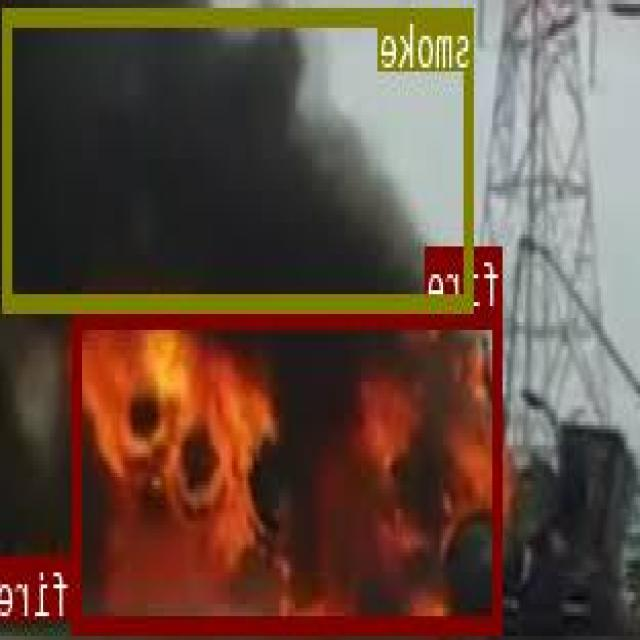fire: (75, 307, 504, 632), (10, 556, 73, 608)
smoke: (6, 6, 475, 310)
